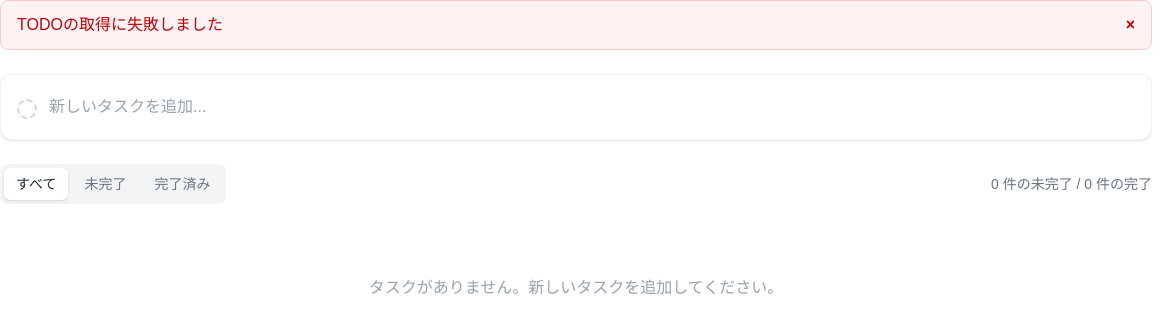
Test: TodoList › エラーメッセージの×ボタンでエラーを閉じられる
Expected: the text "TODOの取得に失敗しました" is shown, [17,16,223,33]
Click the button "×": {"x": 1130, "y": 25} [1126,13,1135,37]
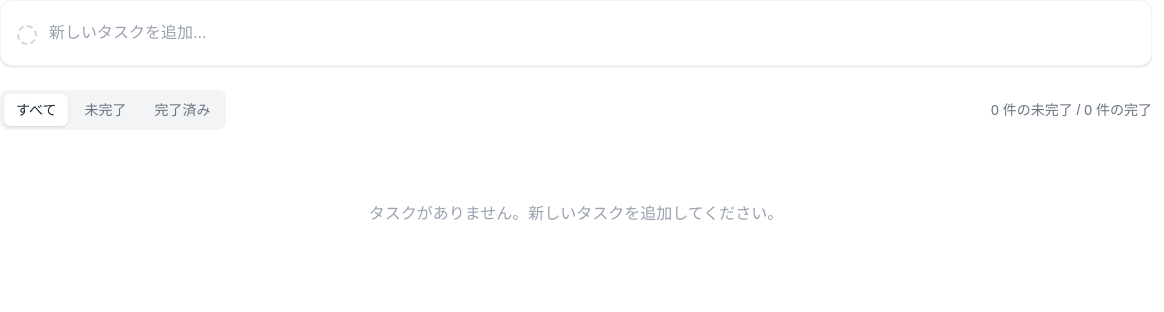
Expected: the text "TODOの取得に失敗しました" is gone
